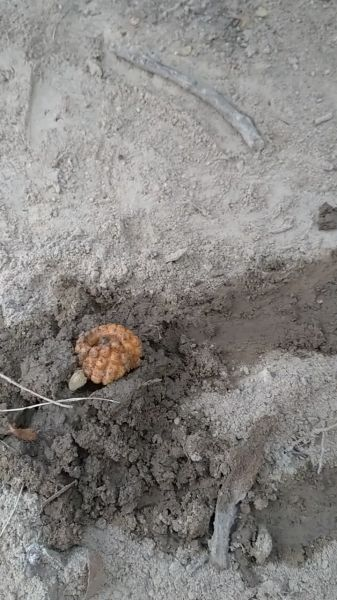eggs: (67, 320, 150, 390)
